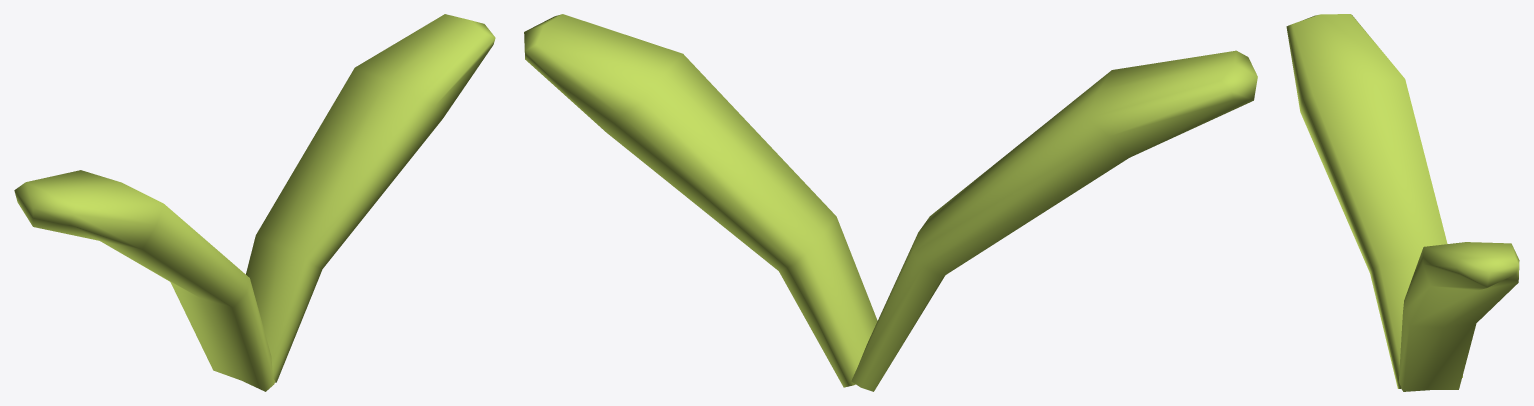
File: platform_kit018.fbx
The picture shows the model from 3 angles, left to right: view 1: azimuth 30°, elevation 25°; view 2: azimuth 150°, elevation 25°; view 3: azimuth 270°, elevation 25°; orthographic projection. The views are drawn at different scales.
Parts seen in each view (by area): view 1: platform_kit018; view 2: platform_kit018; view 3: platform_kit018.
Part boxes in pixels (x1,y1,x2,y2): platform_kit018: (14,14,495,391); platform_kit018: (524,14,1257,391); platform_kit018: (1286,14,1519,391).
Bounding box in the file's own units: 48.26 × 24.8 × 20.04.
1 material, 1 textured.
